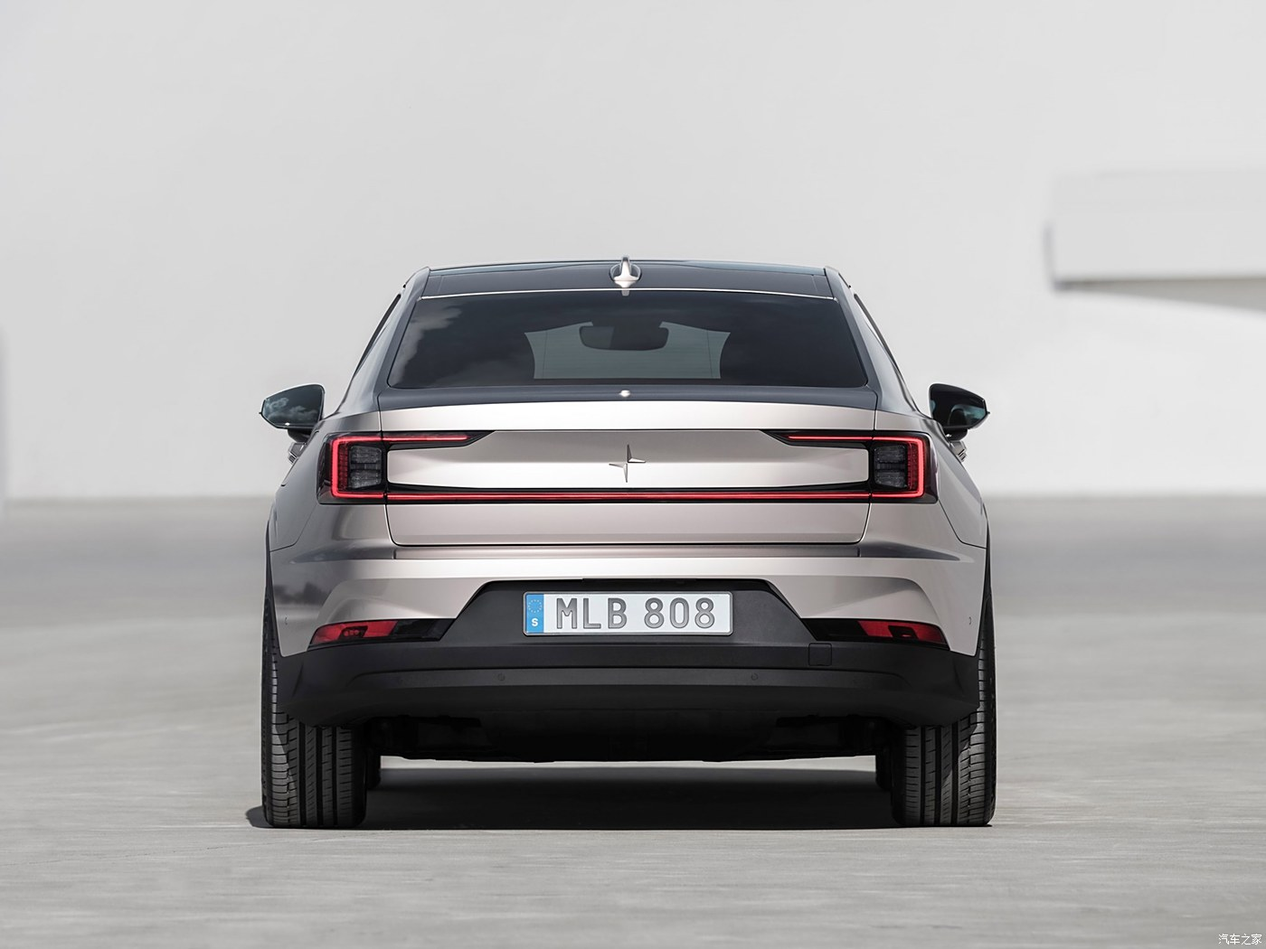Polestar: (609, 445, 645, 483)
